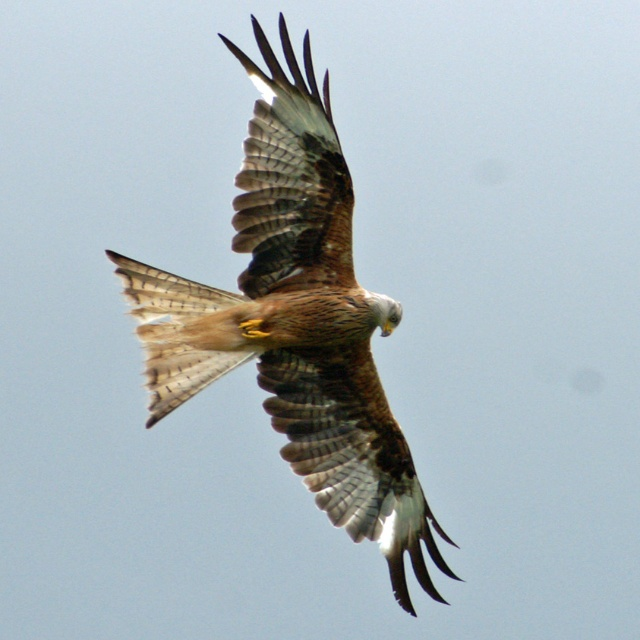Eagle: (105, 10, 466, 618)
